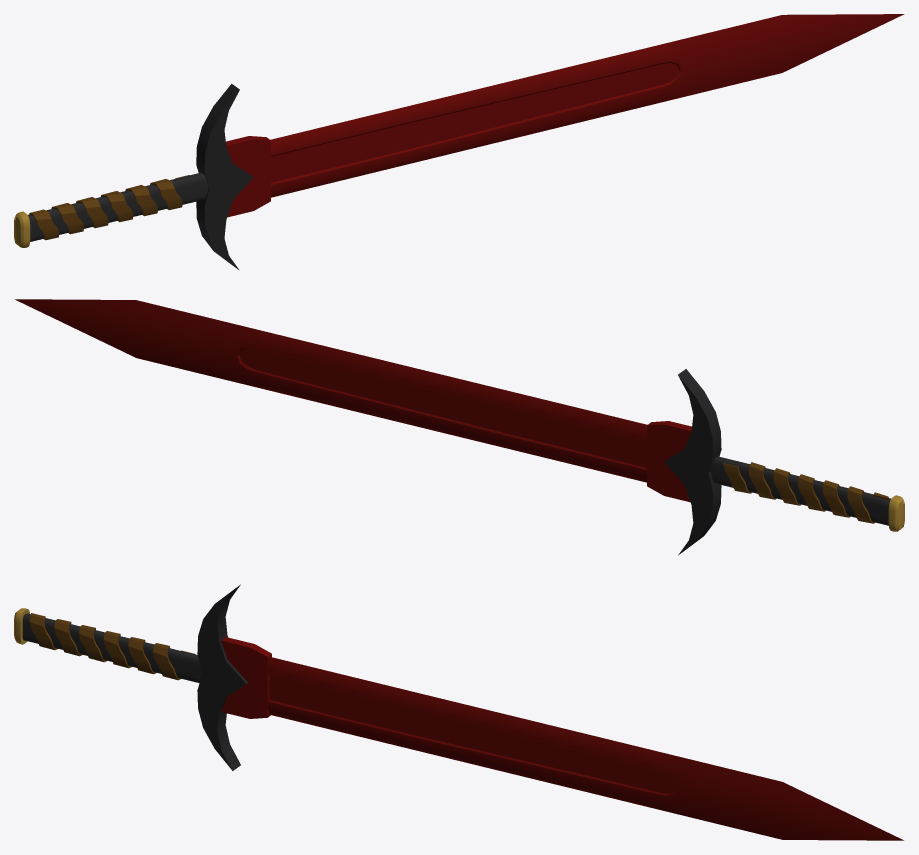
Rendered from WarriorSword.fbx.
3 renders of one model, top to bottom at view 1: azimuth 30°, elevation 25°; view 2: azimuth 150°, elevation 25°; view 3: azimuth 330°, elevation 25°, orthographic.
Visible parts, largest first — view 1: Cube.002; view 2: Cube.002; view 3: Cube.002.
Boxes of the visible parts, bbox=[...] form: Cube.002: bbox=[14, 14, 904, 270]; Cube.002: bbox=[15, 299, 904, 555]; Cube.002: bbox=[14, 584, 903, 840].
Size of the model in its own units: 801 by 156 by 15.33.
